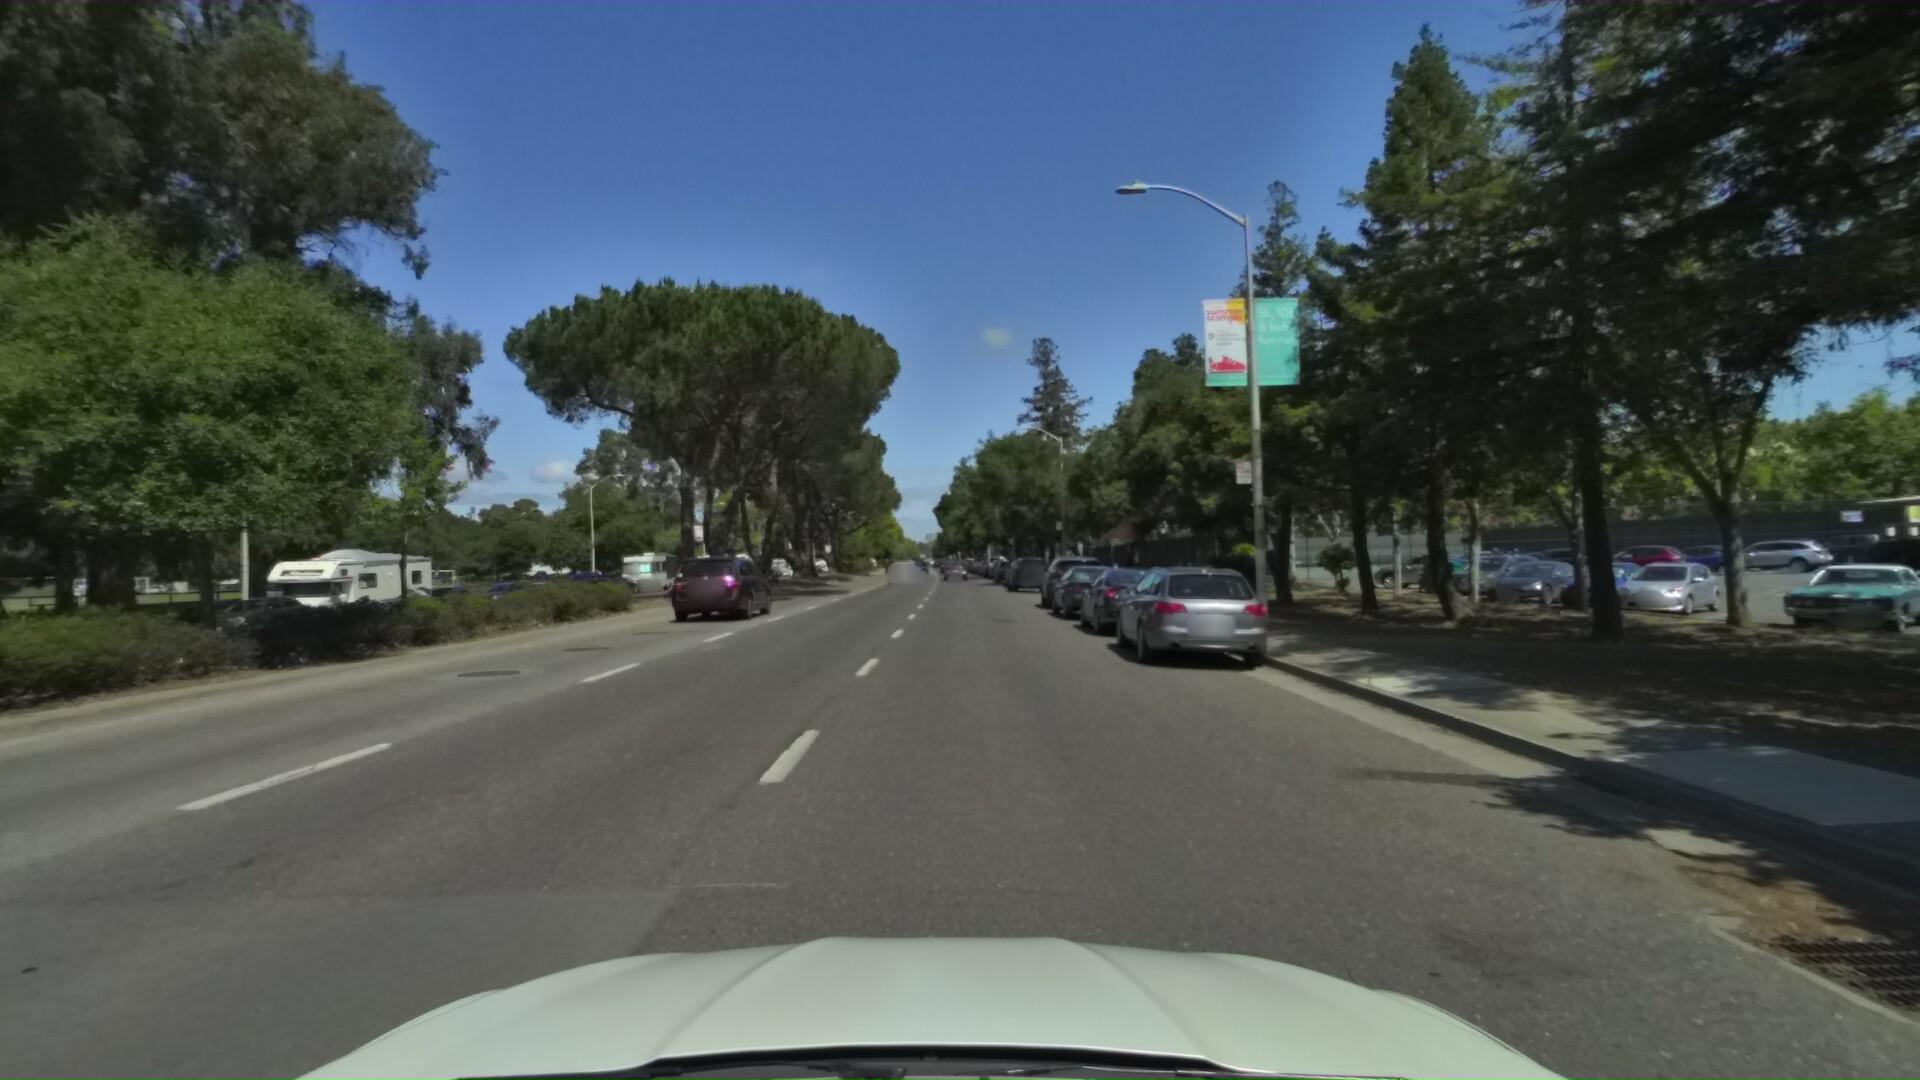car: (1106, 551, 1298, 670), (1075, 551, 1199, 636), (666, 546, 777, 628), (189, 584, 313, 640), (1047, 553, 1143, 618), (1038, 545, 1112, 605), (1005, 546, 1051, 585), (886, 553, 916, 582), (939, 556, 968, 585), (981, 545, 1010, 571), (993, 553, 1023, 576), (986, 549, 1011, 572)
other_vehicle: (247, 539, 436, 630)
